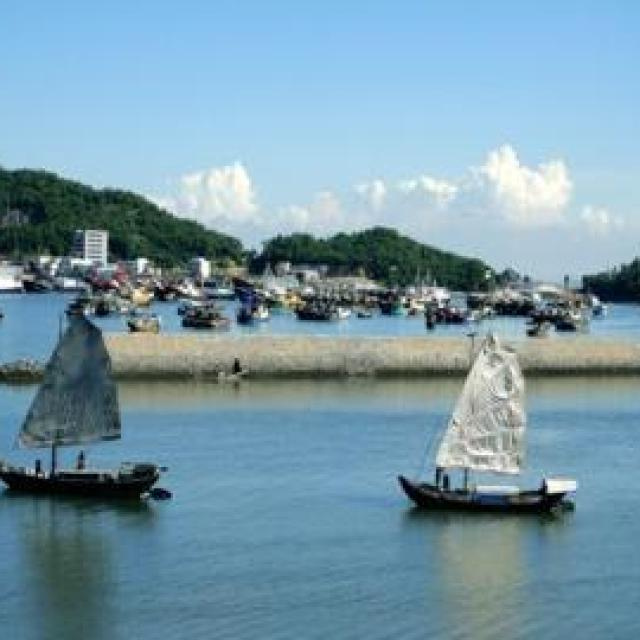sailboat: (406, 328, 582, 518), (0, 301, 171, 495)
